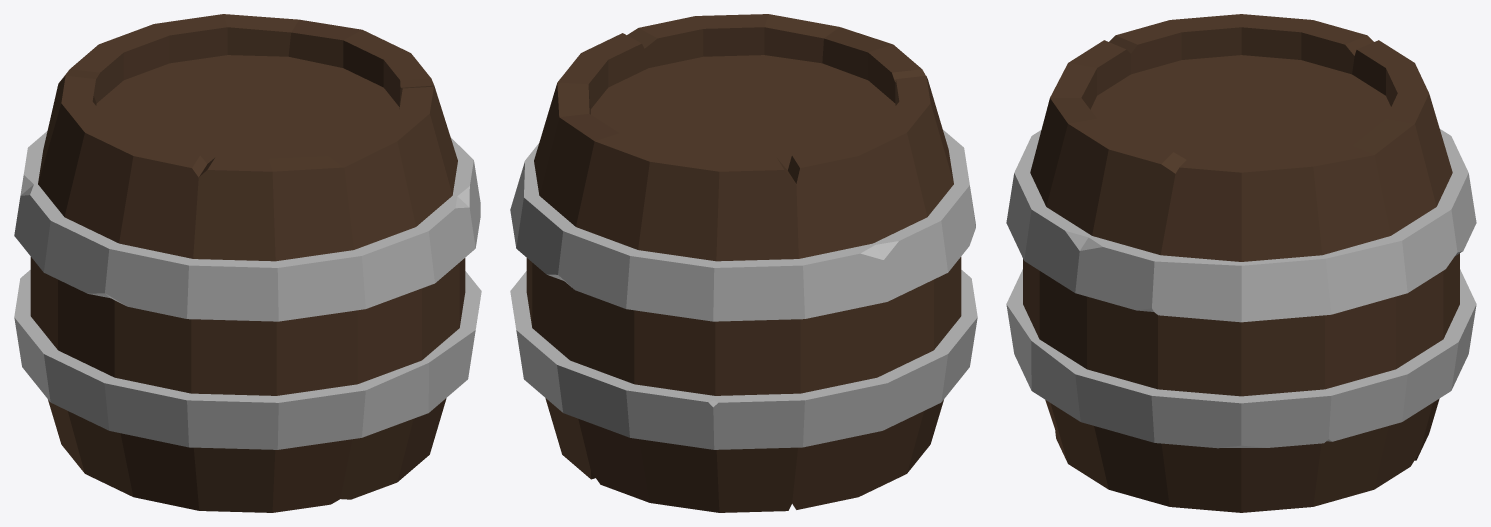
The model's file is barrel.fbx.
3 renders of one model, left to right at view 1: azimuth 30°, elevation 25°; view 2: azimuth 150°, elevation 25°; view 3: azimuth 270°, elevation 25°, orthographic.
Visible parts, largest first — view 1: Cylinder; view 2: Cylinder; view 3: Cylinder.
Boxes of the visible parts, left/top/right/bottom form: Cylinder: left=14, top=14, right=481, bottom=512; Cylinder: left=510, top=14, right=977, bottom=512; Cylinder: left=1006, top=14, right=1476, bottom=512.
Bounding box in the file's own units: 250 × 200 × 250.
